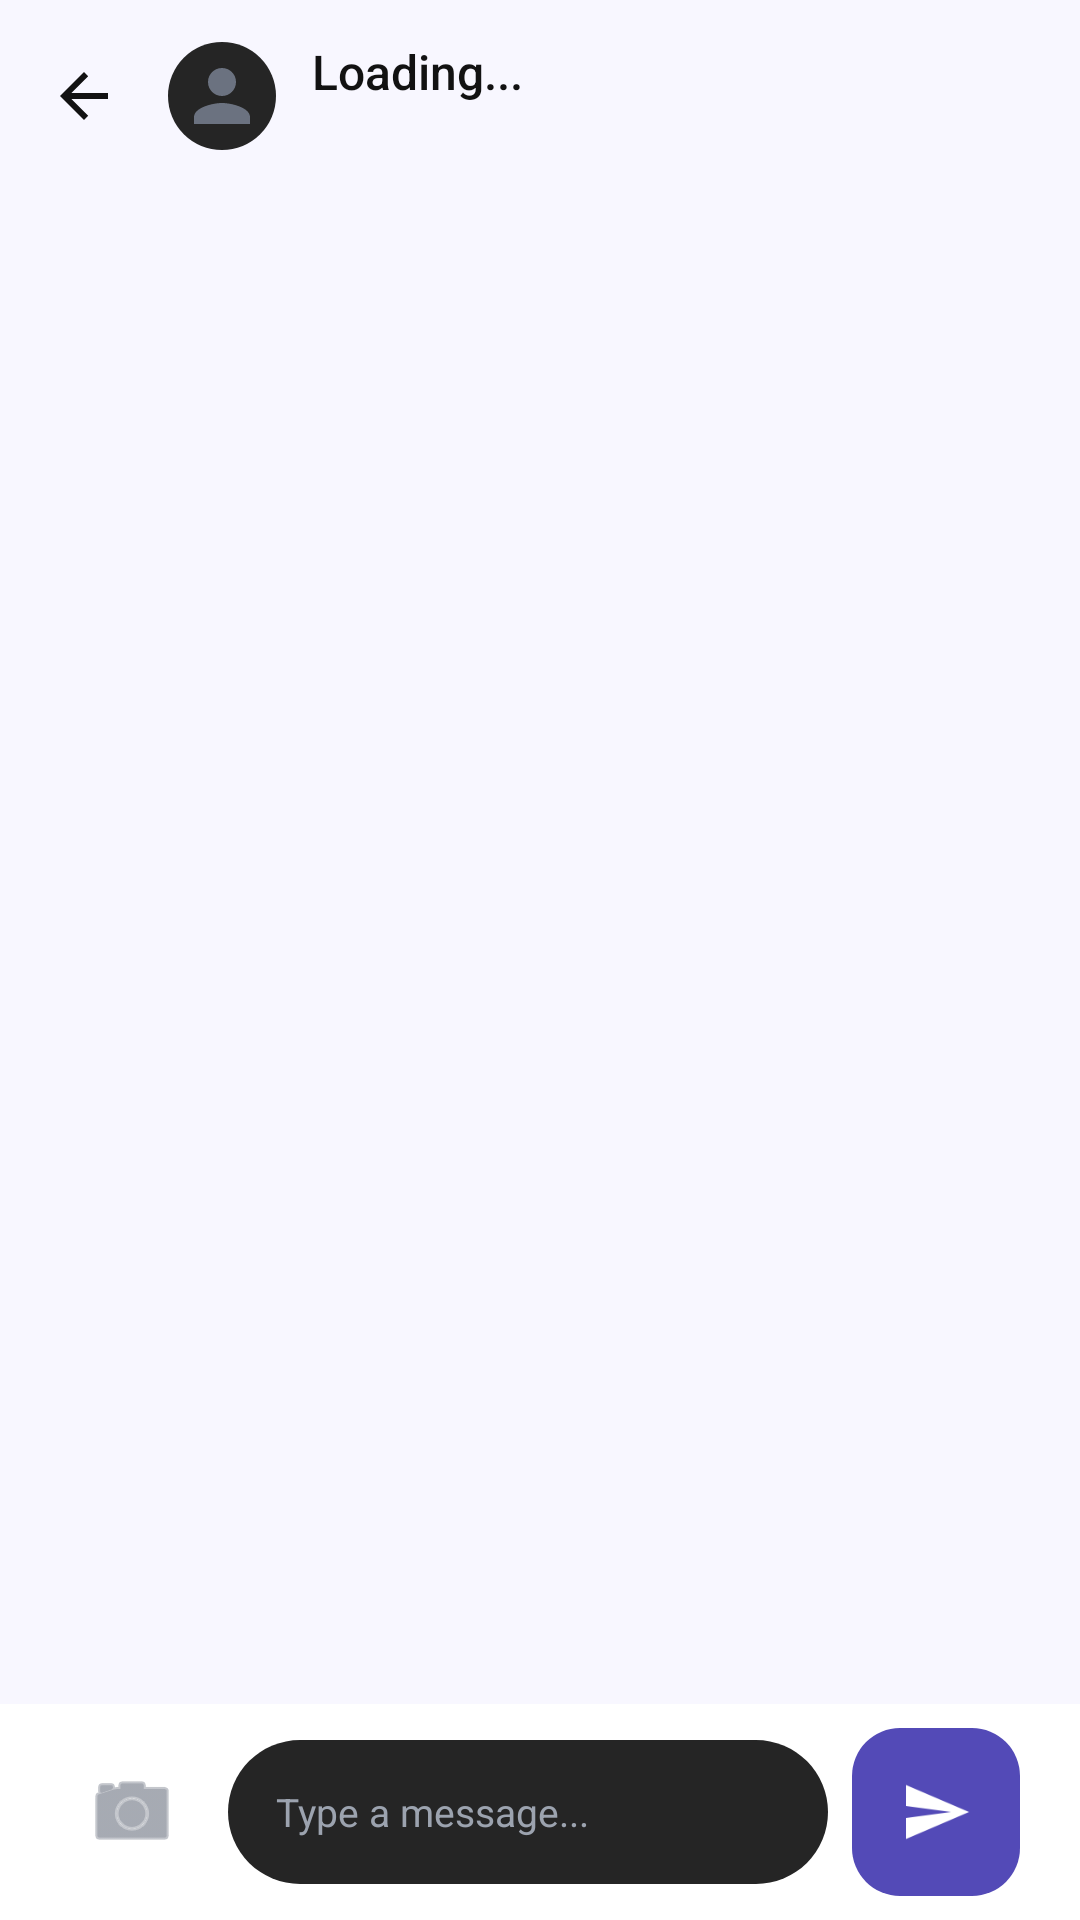

Where to tap for icons on this 1080 × 1920 app screen, as [x,y]:
Attach Image: [132,1810]
person: [222,96]
Send: [936,1812]
